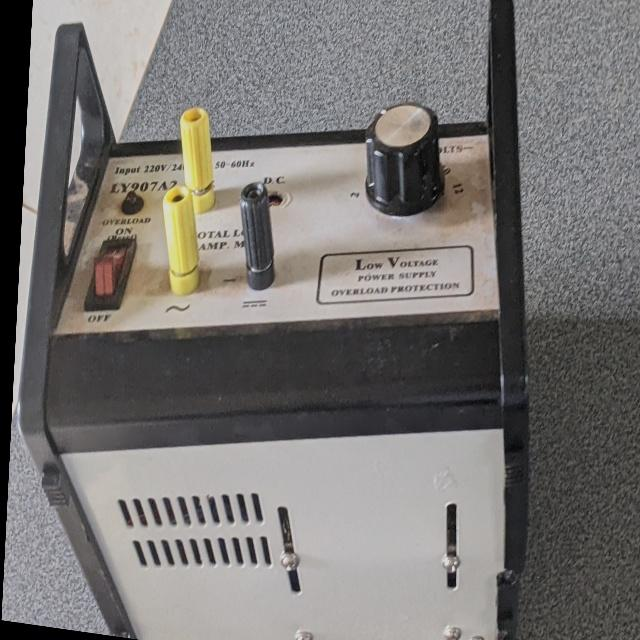AC-AD Regulated Power Supply: (18, 0, 547, 640)
